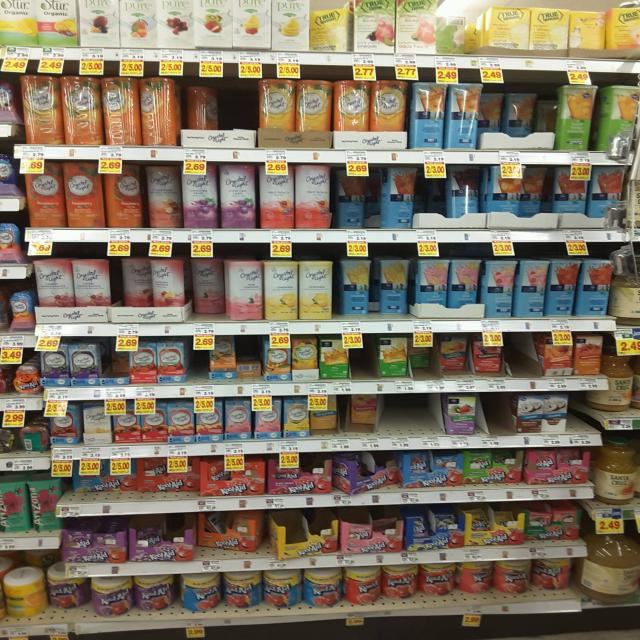empty: (219, 74, 261, 156), (387, 393, 447, 440), (485, 390, 520, 441), (507, 337, 543, 384), (568, 391, 594, 433), (353, 344, 377, 378), (188, 345, 211, 380)
